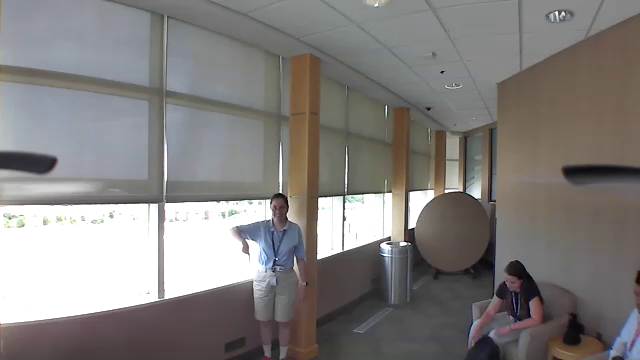down: (233, 238, 257, 265)
